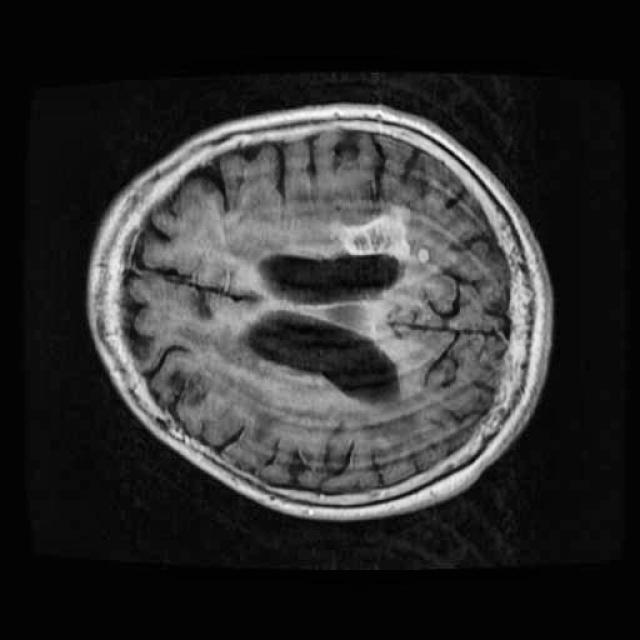Tumor: (330, 195, 438, 274)
